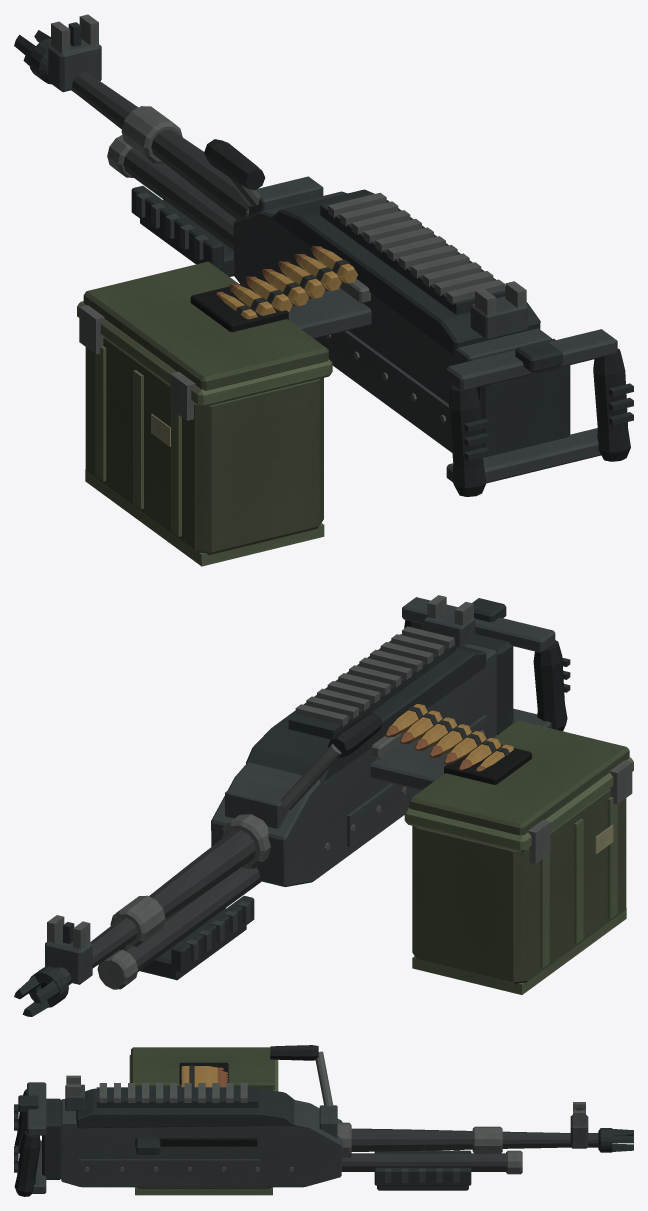
File: Gun76251Air.obj
3 renders of one model, top to bottom at view 1: azimuth 30°, elevation 25°; view 2: azimuth 150°, elevation 25°; view 3: azimuth 270°, elevation 25°, orthographic. The views are drawn at different scales.
Visible parts, largest first — view 1: Ammo_can_bevel_shell, Ammo_can_lid, Receiver_stamped_shell, Feed_cover_tapered, Rear_grip_backplate, Barrel_tapered_steel, Stamped_reinforcement_L, Ammo_can_folded_rim, Spade_yoke_-0.194, Lower_fore_tube, Spade_yoke_-0.317, Rubber_spade_grip_-1 (+17 smaller); view 2: Ammo_can_bevel_shell, Receiver_stamped_shell, Ammo_can_lid, Feed_cover_tapered, Barrel_tapered_steel, Lower_fore_tube, Ammo_can_folded_rim, Belt_guide_external_shelf, Spade_yoke_-0.194, Rubber_spade_grip_-1, Stamped_reinforcement_L, Ammo_can_bottom_hem (+21 smaller); view 3: Receiver_stamped_shell, Feed_cover_tapered, Ammo_can_lid, Barrel_tapered_steel, Stamped_reinforcement_R, Lower_fore_tube, Rail_spine, Rear_grip_backplate, Fore_shield_rail_1, Rubber_spade_grip_1, Ammo_can_bottom_hem, Spade_yoke_-0.194 (+18 smaller).
Boxes of the visible parts, x1,y1,x2,y2 form: Ammo_can_bevel_shell: [85, 336, 323, 554]; Ammo_can_lid: [83, 261, 328, 390]; Receiver_stamped_shell: [233, 191, 551, 452]; Feed_cover_tapered: [272, 189, 540, 356]; Rear_grip_backplate: [469, 338, 570, 457]; Barrel_tapered_steel: [71, 72, 248, 219]; Stamped_reinforcement_L: [315, 330, 451, 443]; Ammo_can_folded_rim: [77, 301, 332, 407]; Spade_yoke_-0.194: [446, 329, 617, 389]; Lower_fore_tube: [123, 148, 236, 250]; Spade_yoke_-0.317: [446, 428, 600, 483]; Rubber_spade_grip_-1: [448, 385, 486, 496]; Ammo_can_bevel_shell: [412, 788, 626, 984]; Receiver_stamped_shell: [211, 643, 496, 886]; Ammo_can_lid: [409, 720, 629, 835]; Feed_cover_tapered: [246, 634, 486, 783]; Barrel_tapered_steel: [56, 830, 256, 985]; Lower_fore_tube: [122, 867, 261, 971]; Ammo_can_folded_rim: [404, 757, 633, 852]; Belt_guide_external_shelf: [370, 739, 451, 790]; Spade_yoke_-0.194: [402, 597, 555, 652]; Rubber_spade_grip_-1: [533, 640, 567, 731]; Stamped_reinforcement_L: [347, 715, 487, 846]; Ammo_can_bottom_hem: [412, 908, 626, 994]; Receiver_stamped_shell: [61, 1099, 342, 1187]; Feed_cover_tapered: [76, 1088, 295, 1128]; Ammo_can_lid: [131, 1047, 274, 1090]; Barrel_tapered_steel: [351, 1128, 598, 1151]; Stamped_reinforcement_R: [78, 1159, 260, 1180]; Lower_fore_tube: [342, 1153, 505, 1171]; Rail_spine: [96, 1087, 258, 1107]; Rear_grip_backplate: [42, 1098, 62, 1179]; Fore_shield_rail_1: [374, 1167, 471, 1185]; Rubber_spade_grip_1: [14, 1131, 40, 1196]; Ammo_can_bottom_hem: [135, 1187, 272, 1195]; Spade_yoke_-0.194: [27, 1082, 46, 1135].
Size of the model in its own units: 0.4545 by 0.3455 by 1.19.
1 material, 1 textured.
